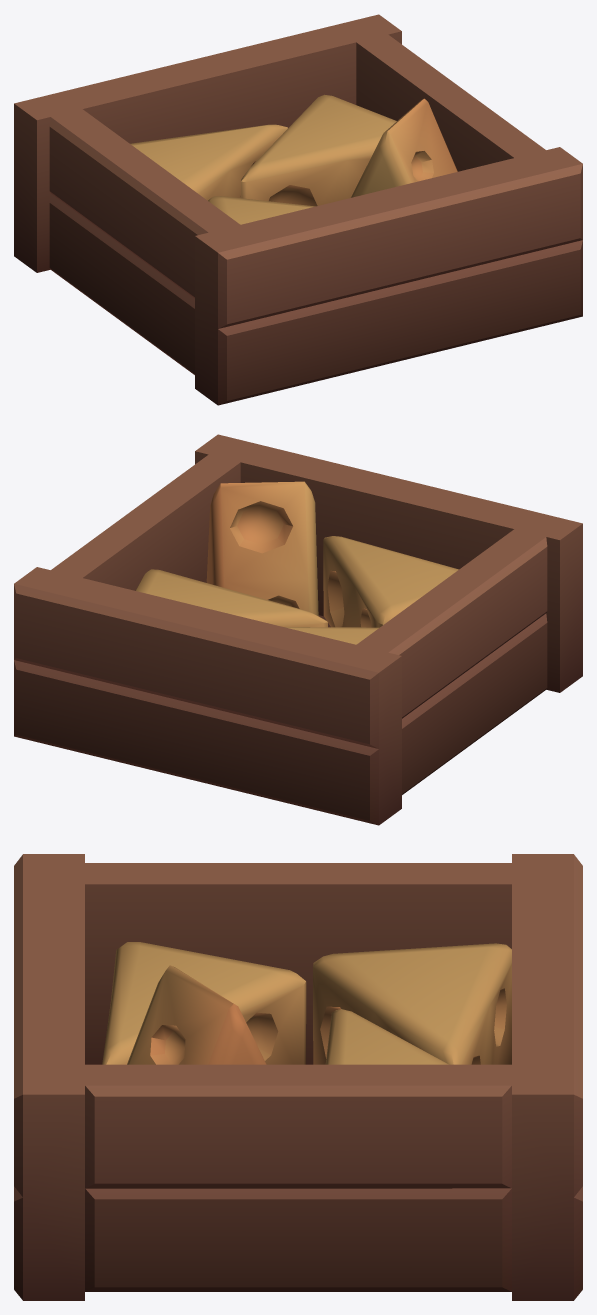
File: crate-cheese.glb
The picture shows the model from 3 angles, top to bottom: view 1: azimuth 30°, elevation 25°; view 2: azimuth 150°, elevation 25°; view 3: azimuth 270°, elevation 25°; orthographic projection. The views are drawn at different scales.
Parts seen in each view (by area): view 1: crate-cheese; view 2: crate-cheese; view 3: crate-cheese.
Boxes of the visible parts, box(x1,y1,x2,y2) form: crate-cheese: box(14, 14, 582, 405); crate-cheese: box(14, 434, 582, 825); crate-cheese: box(14, 854, 582, 1300).
Bounding box in the file's own units: 0.9514 × 0.45 × 0.9514.
